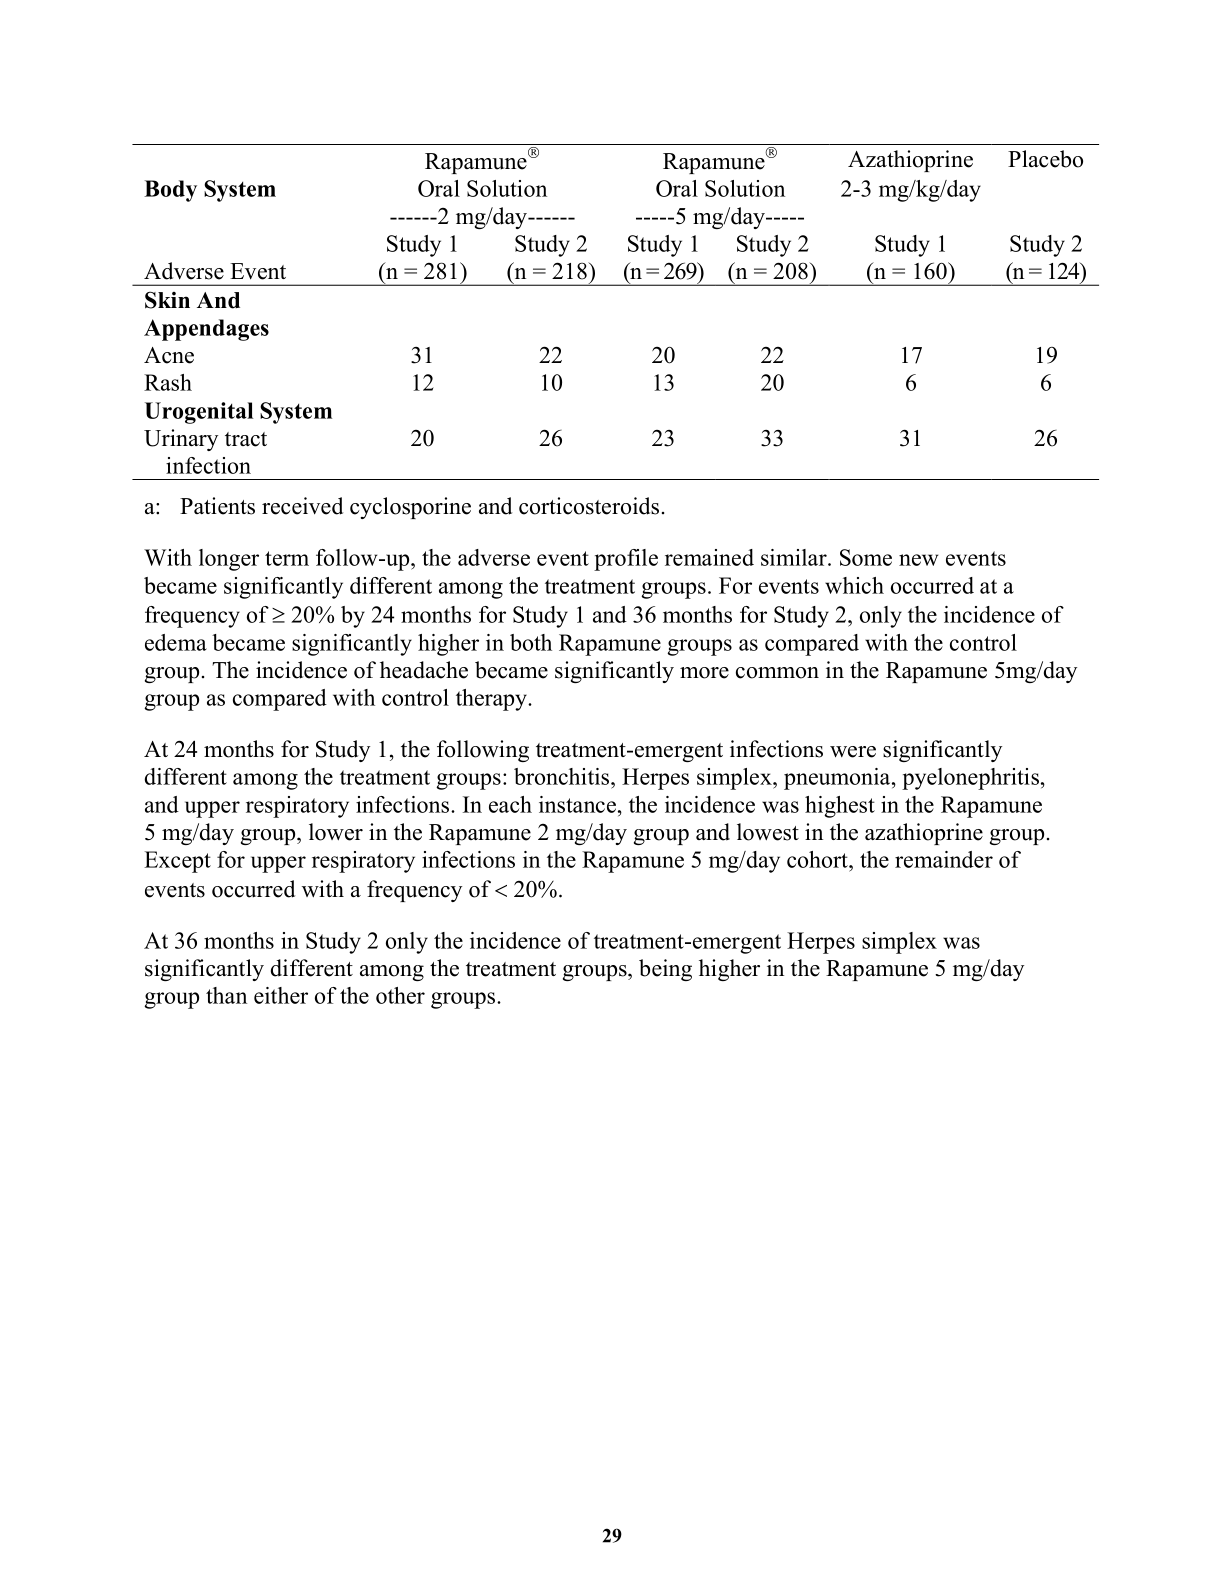partial_lined_merged_cells: (132, 141, 1101, 481)
